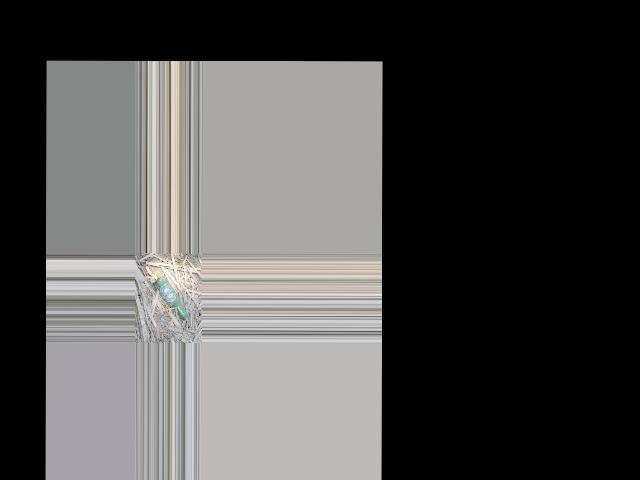beer: (152, 276, 188, 321)
